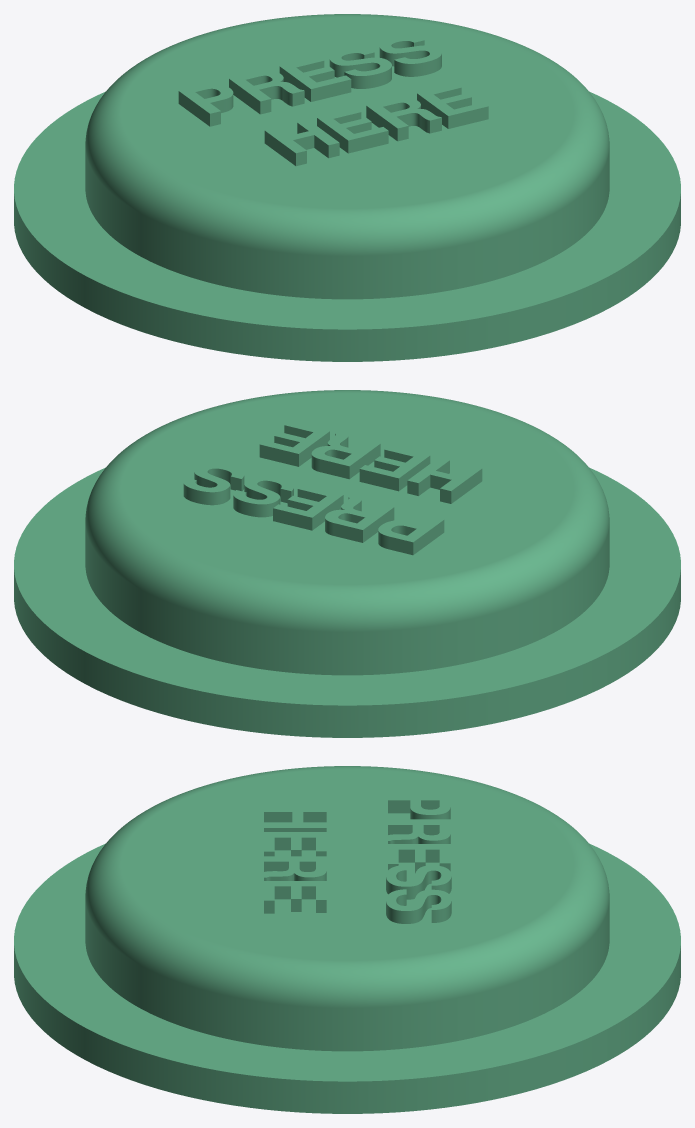
The model's file is esp2025_p29_button.glb.
The picture shows the model from 3 angles, top to bottom: view 1: azimuth 30°, elevation 25°; view 2: azimuth 150°, elevation 25°; view 3: azimuth 270°, elevation 25°; orthographic projection.
Visible parts, largest first — view 1: PRESS HERE button; view 2: PRESS HERE button; view 3: PRESS HERE button.
Part boxes in pixels (x1=…): PRESS HERE button: x1=14, y1=14, x2=680, y2=361; PRESS HERE button: x1=14, y1=390, x2=680, y2=737; PRESS HERE button: x1=14, y1=766, x2=680, y2=1113.
Size of the model in its own units: 28 by 5.6 by 27.99.
